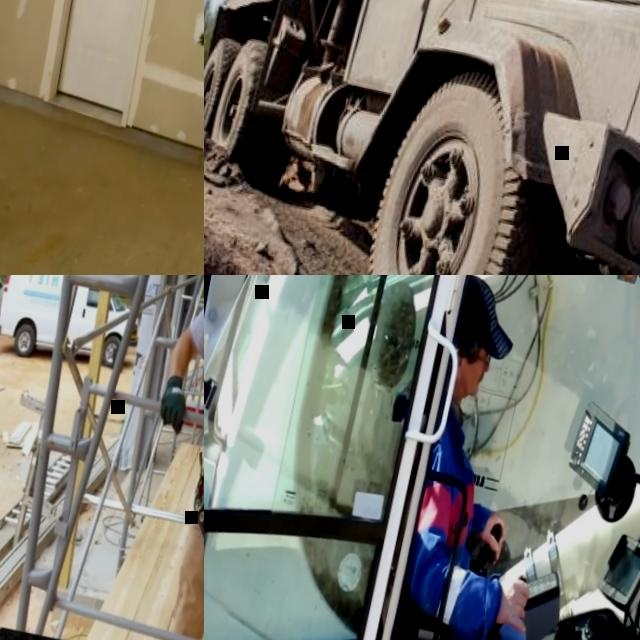NO-Hardhat: (452, 275, 506, 354)
NO-Mask: (455, 367, 482, 400)
Person: (354, 275, 608, 640), (108, 275, 204, 640), (0, 0, 46, 275)
Safety Vest: (397, 422, 494, 630)
machinery: (204, 275, 640, 640), (204, 0, 640, 275)
